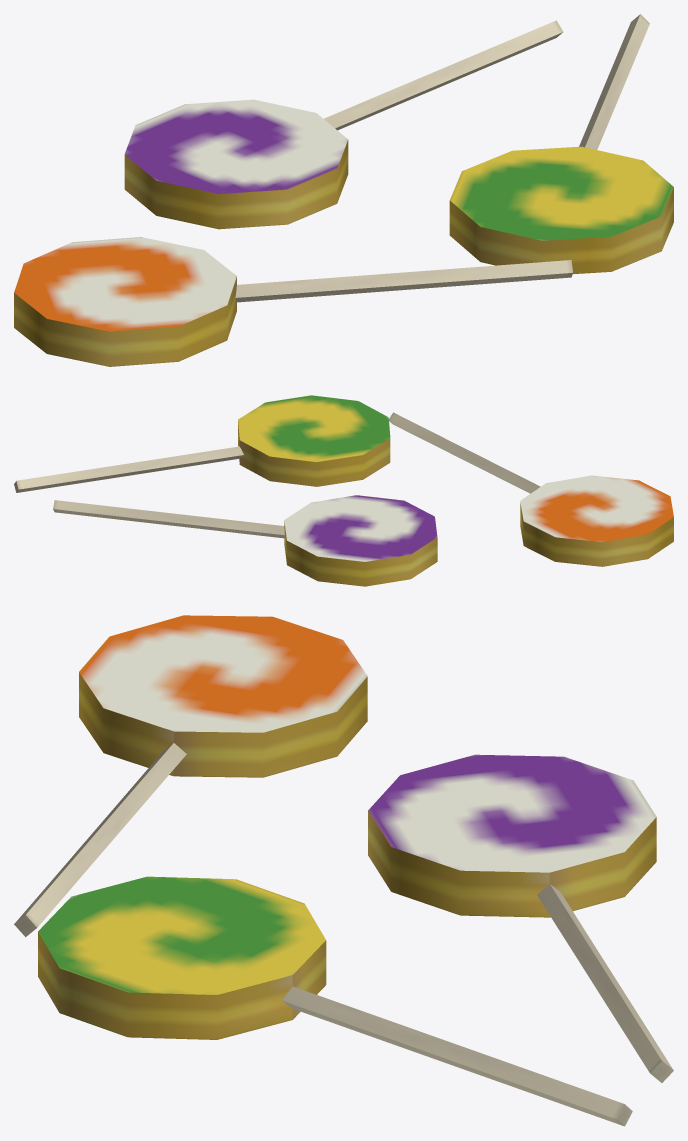
The model's file is lollipops.obj.
3 views of the same model, one above another, from view 1: azimuth 30°, elevation 25°; view 2: azimuth 150°, elevation 25°; view 3: azimuth 270°, elevation 25° (orthographic). The views are drawn at different scales.
Visible parts, largest first — view 1: lollipops; view 2: lollipops; view 3: lollipops.
Part boxes in pixels (<box>): lollipops: <box>14,14,673,366</box>; lollipops: <box>14,395,673,586</box>; lollipops: <box>14,615,673,1126</box>.
Bounding box in the file's own units: 0.2759 × 0.012 × 0.1598.
1 material, 1 textured.
